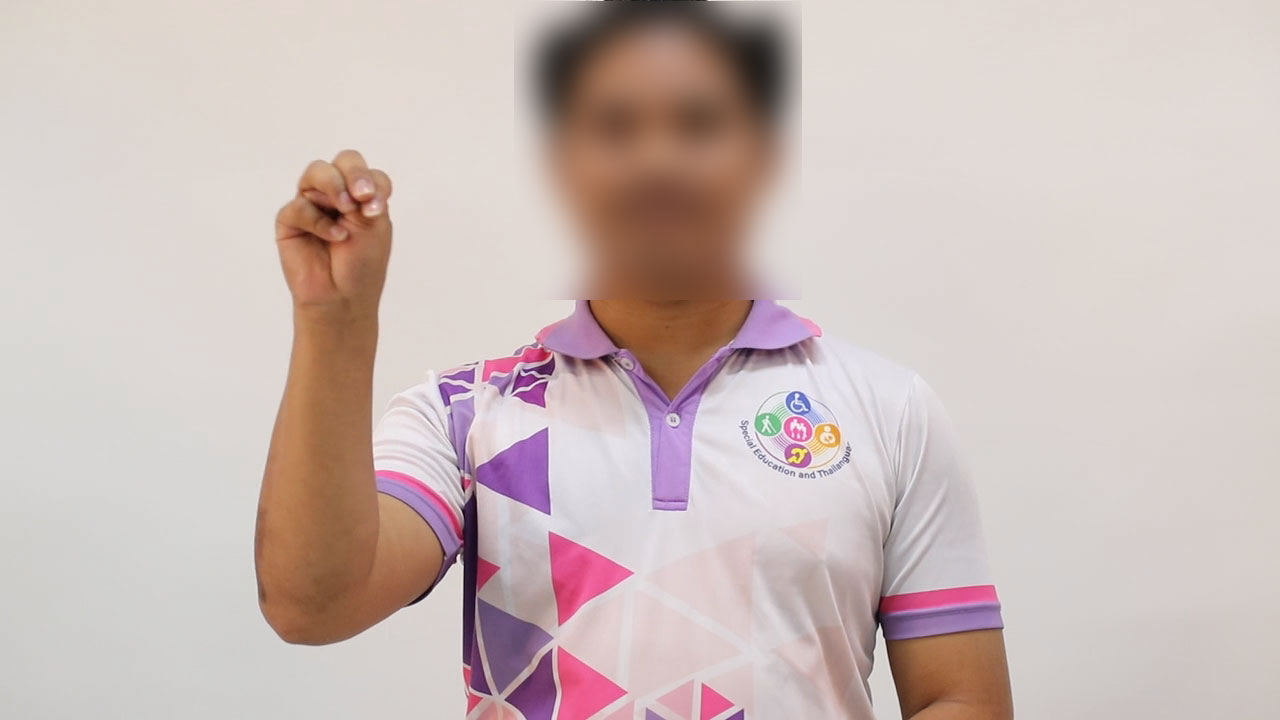mor: (262, 132, 421, 352)
